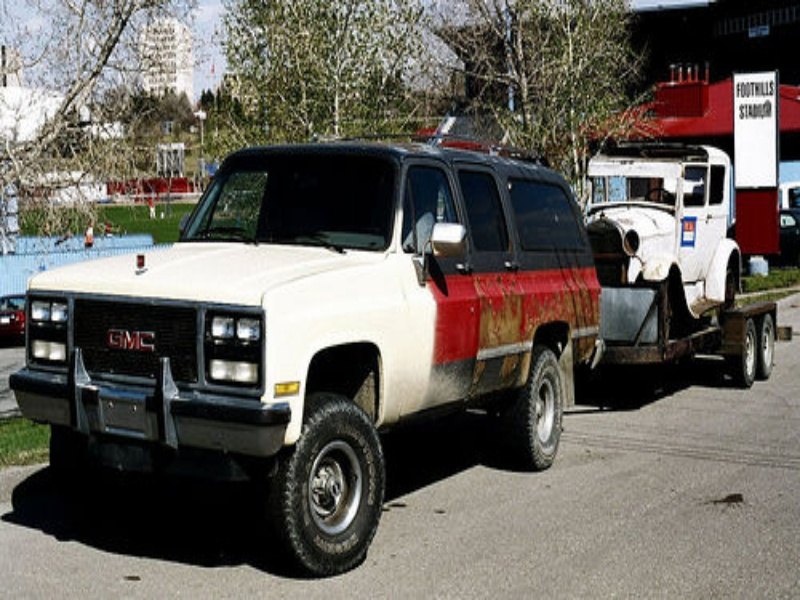car: (10, 139, 604, 575), (583, 144, 742, 305), (1, 294, 25, 345)
